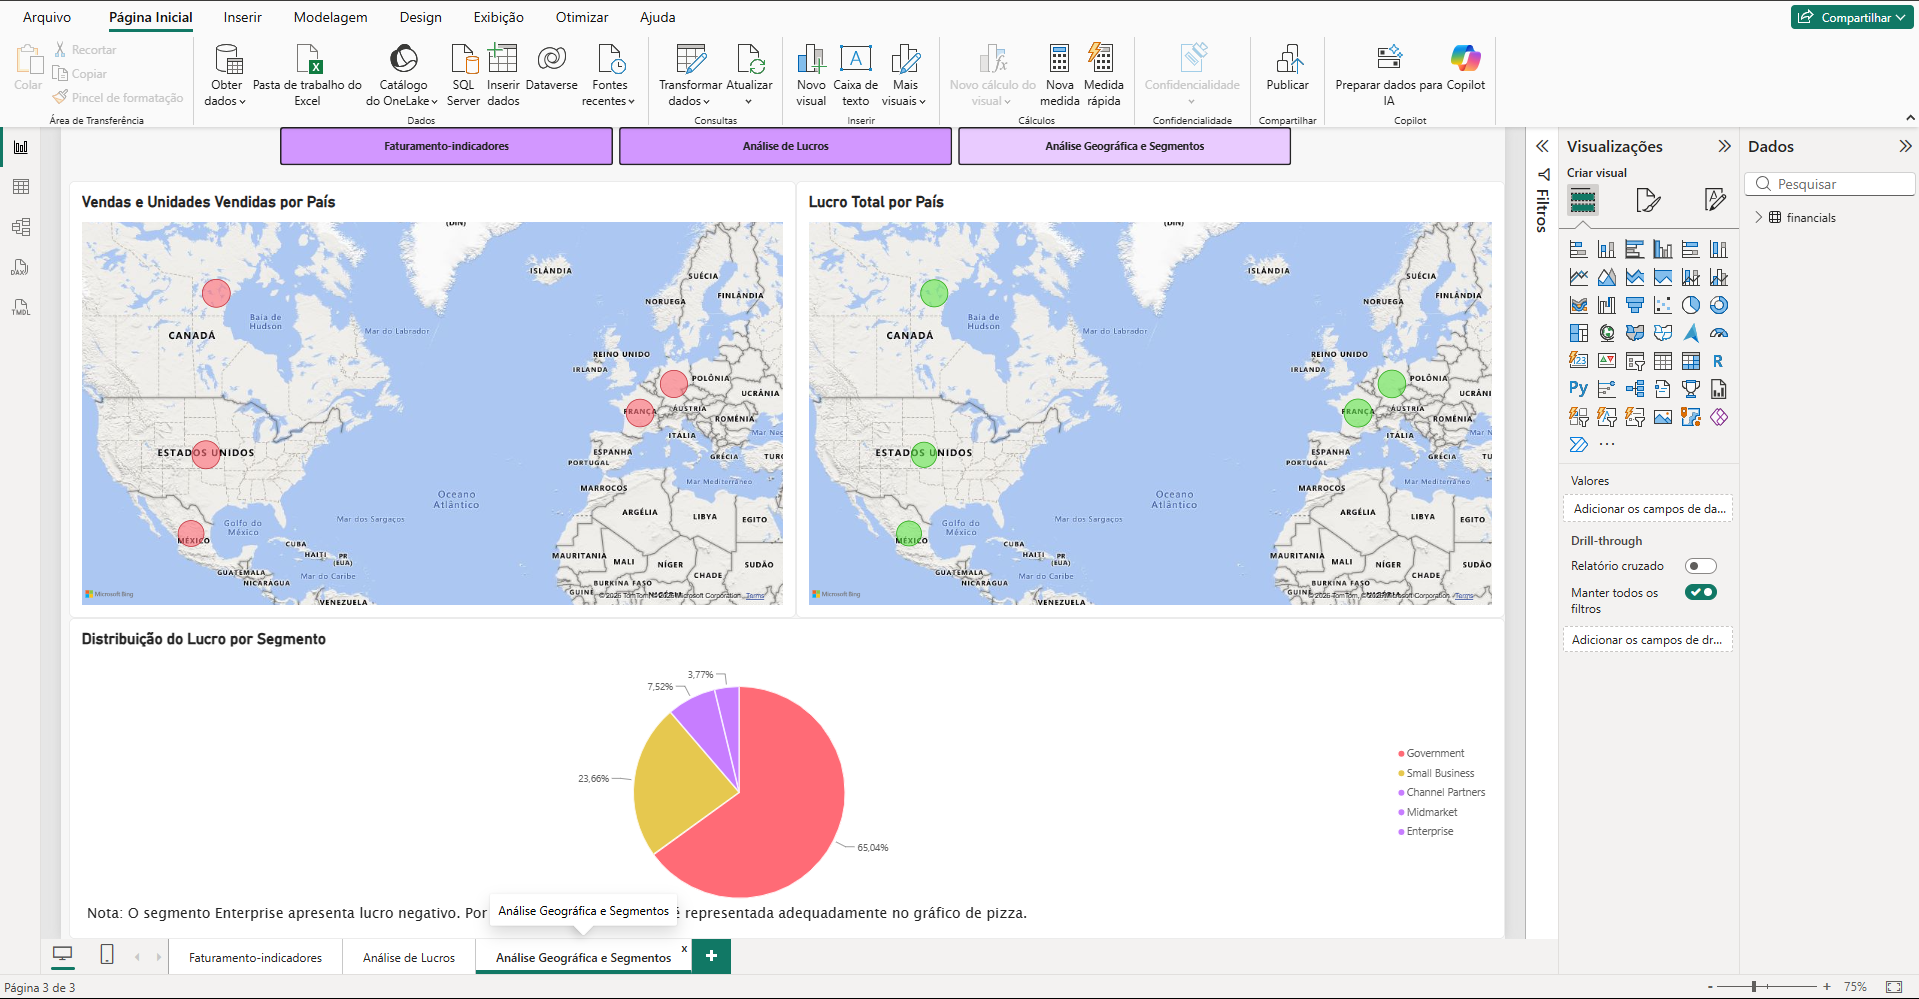

What the dashboard file says about the page in this screenshot:
{"tool":"powerbi","page":{"name":"Análise Geográfica e Segmentos","canvas":[1920,1080],"ordinal":2},"visuals":[{"type":"map","title":"Vendas e Unidades Vendidas por País","fields":{"Category":["financials.Country"],"Size":["Sum(financials. Sales)"]},"box":[10.6,71.8,966.9,581.2],"z":0},{"type":"map","title":"Lucro Total por País","fields":{"Category":["financials.Country"],"Size":["Sum(financials.Profit)"]},"box":[977.6,71.8,943,581.2],"z":1000},{"type":"pieChart","title":"Distribuição do Lucro por Segmento","fields":{"Category":["financials.Segment"],"Y":["Sum(financials.Profit)"]},"box":[10.6,653.1,1910,426.9],"z":2000},{"type":"textbox","box":[100,100,300,300],"z":3000},{"type":"textbox","box":[34.6,1032.1,1443.1,27.9],"z":4000},{"type":"pageNavigator","box":[291.3,0,1347.3,51.9],"z":4001}]}

Visuals, with their boxes on the page's 1920x1080 design canvas (x1, y1, x2, y2). These are canvas units, not pixel positions in the 1919x999 screenshot, which may show the page scaled, cropped or inside an application window:
"Vendas e Unidades Vendidas por País" map: rect(11, 72, 978, 653)
"Lucro Total por País" map: rect(978, 72, 1921, 653)
"Distribuição do Lucro por Segmento" pieChart: rect(11, 653, 1921, 1080)
textbox: rect(100, 100, 400, 400)
textbox: rect(35, 1032, 1478, 1060)
pageNavigator: rect(291, 0, 1639, 52)
